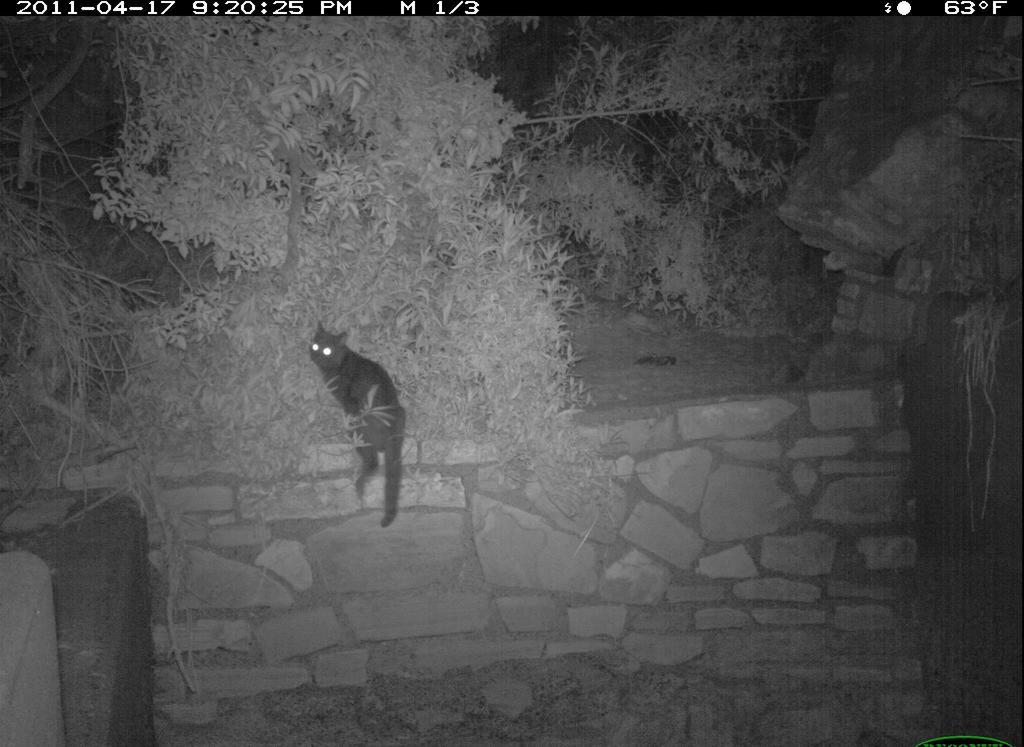cat: (301, 319, 414, 536)
